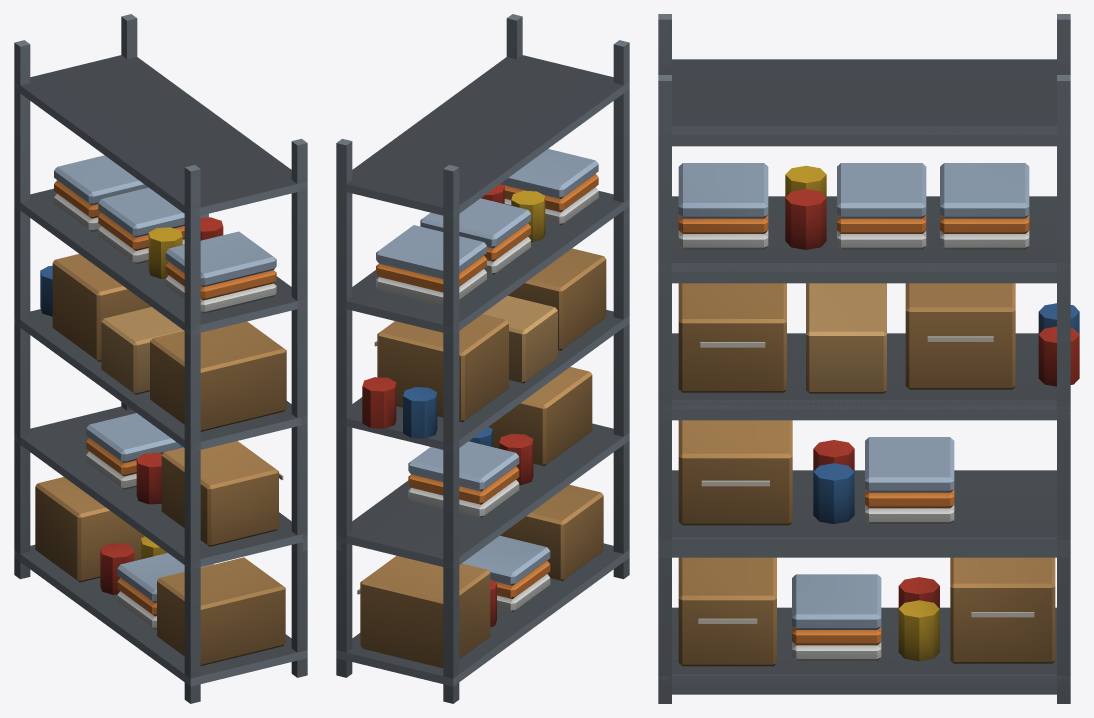
Rendered from shelf_metal.glb.
The picture shows the model from 3 angles, left to right: view 1: azimuth 30°, elevation 25°; view 2: azimuth 150°, elevation 25°; view 3: azimuth 270°, elevation 25°; orthographic projection. The views are drawn at different scales.
Parts seen in each view (by area): view 1: Body; view 2: Body; view 3: Body.
Part boxes in pixels (x1,y1,x2,y2): Body: (14,14,307,703); Body: (336,14,629,703); Body: (658,14,1079,703).
Bounding box in the file's own units: 0.46 × 2 × 1.23.
